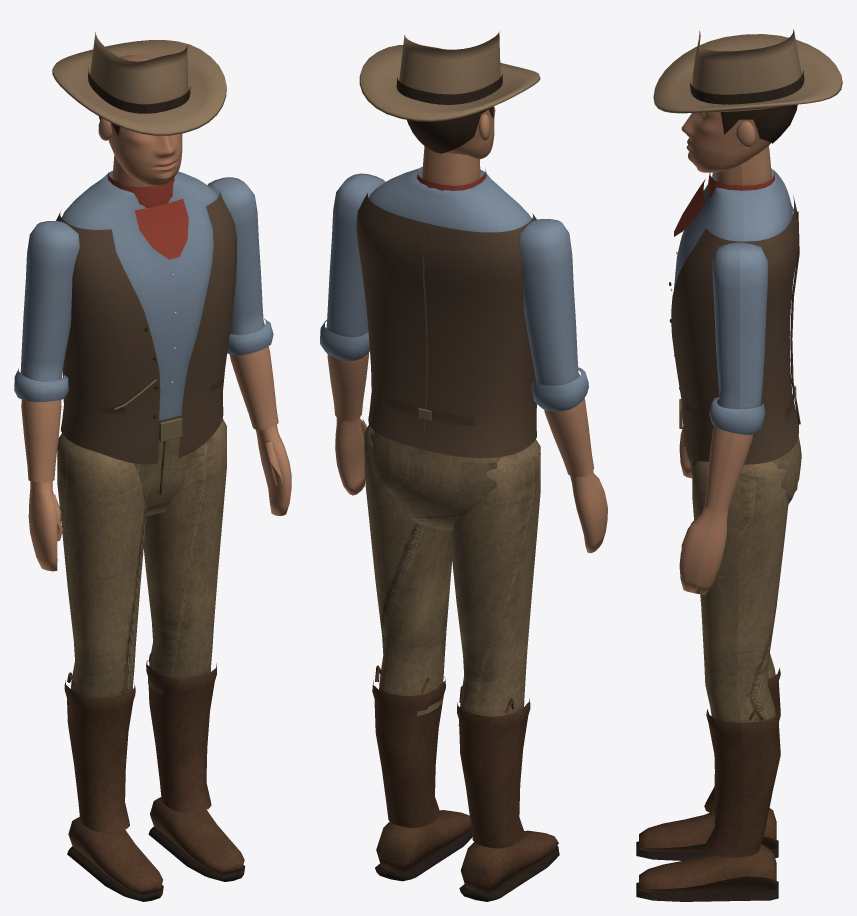
Rendered from b_player.glb.
3 renders of one model, left to right at view 1: azimuth 30°, elevation 25°; view 2: azimuth 150°, elevation 25°; view 3: azimuth 270°, elevation 25°, orthographic. The views are drawn at different scales.
Parts seen in each view (by area): view 1: body, legR, legL, armR, armL; view 2: body, legR, legL, armR, armL; view 3: body, legL, armL, legR.
Boxes of the visible parts, box(x1,y1,x2,y2) form: body: box(52, 32, 236, 515); legR: box(57, 433, 163, 901); legL: box(143, 419, 245, 881); armR: box(14, 221, 79, 571); armL: box(207, 177, 291, 515); body: box(356, 31, 540, 531); legR: box(449, 439, 559, 901); legL: box(364, 425, 472, 881); armR: box(519, 219, 607, 553); armL: box(320, 173, 385, 495); body: box(653, 29, 842, 504); legL: box(636, 460, 788, 901); armL: box(679, 242, 767, 594); legR: box(636, 653, 780, 860).
Size of the model in its own units: 0.5853 by 1.82 by 0.4041.
Materials: 1 (1 with a texture image).
